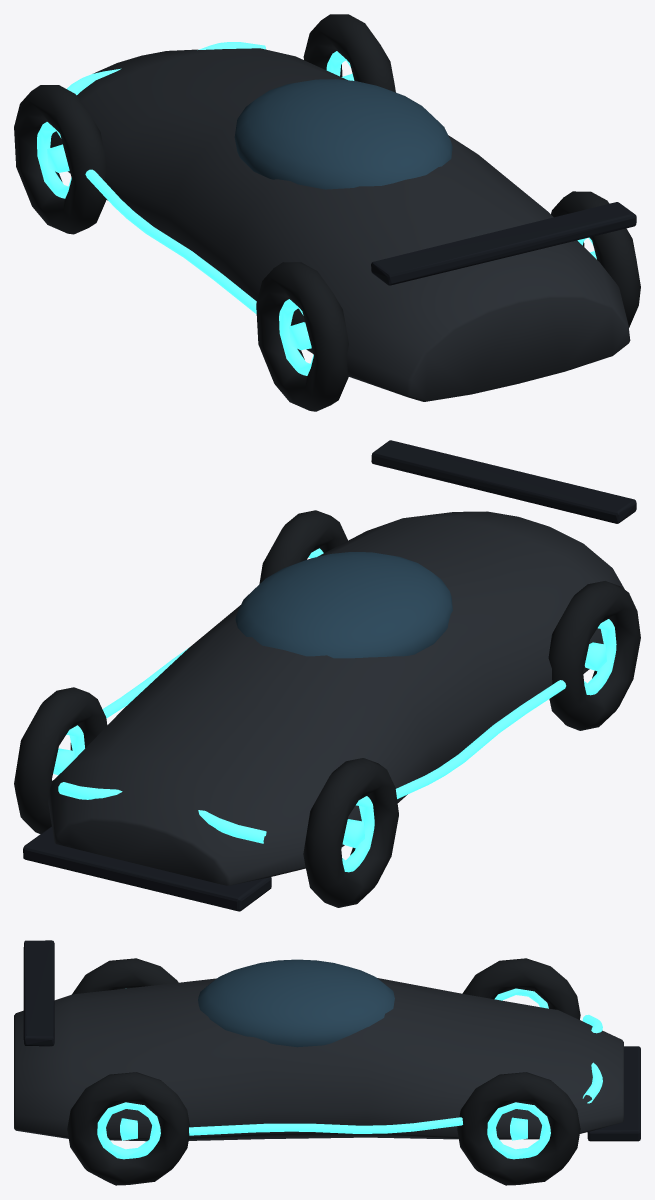
The model's file is Rival01_Wedge_LOD1.fbx.
3 renders of one model, top to bottom at view 1: azimuth 30°, elevation 25°; view 2: azimuth 150°, elevation 25°; view 3: azimuth 270°, elevation 25°, orthographic. The views are drawn at different scales.
Parts seen in each view (by area): view 1: Rival01_Wedge_Body_LOD1, Rival01_Wedge_Wheel_RL_LOD1, Rival01_Wedge_Wheel_FL_LOD1, Rival01_Wedge_Wheel_FR_LOD1, Rival01_Wedge_Wheel_RR_LOD1; view 2: Rival01_Wedge_Body_LOD1, Rival01_Wedge_Wheel_FL_LOD1, Rival01_Wedge_Wheel_RL_LOD1, Rival01_Wedge_Wheel_FR_LOD1, Rival01_Wedge_Wheel_RR_LOD1; view 3: Rival01_Wedge_Body_LOD1, Rival01_Wedge_Wheel_RR_LOD1, Rival01_Wedge_Wheel_FR_LOD1, Rival01_Wedge_Wheel_FL_LOD1, Rival01_Wedge_Wheel_RL_LOD1.
Boxes of the visible parts, x1,y1,x2,y2 form: Rival01_Wedge_Body_LOD1: (50, 42, 636, 401); Rival01_Wedge_Wheel_RL_LOD1: (256, 262, 348, 411); Rival01_Wedge_Wheel_FL_LOD1: (14, 85, 106, 234); Rival01_Wedge_Wheel_FR_LOD1: (303, 14, 395, 92); Rival01_Wedge_Wheel_RR_LOD1: (551, 191, 640, 327); Rival01_Wedge_Body_LOD1: (23, 440, 636, 911); Rival01_Wedge_Wheel_FL_LOD1: (303, 758, 398, 907); Rival01_Wedge_Wheel_RL_LOD1: (548, 581, 640, 730); Rival01_Wedge_Wheel_FR_LOD1: (14, 687, 107, 833); Rival01_Wedge_Wheel_RR_LOD1: (259, 510, 347, 583); Rival01_Wedge_Body_LOD1: (14, 940, 640, 1141); Rival01_Wedge_Wheel_RR_LOD1: (67, 1072, 190, 1185); Rival01_Wedge_Wheel_FR_LOD1: (457, 1072, 580, 1185); Rival01_Wedge_Wheel_FL_LOD1: (462, 958, 580, 1019); Rival01_Wedge_Wheel_RL_LOD1: (72, 958, 178, 994).
Size of the model in its own units: 2.13 by 1.21 by 4.47.
